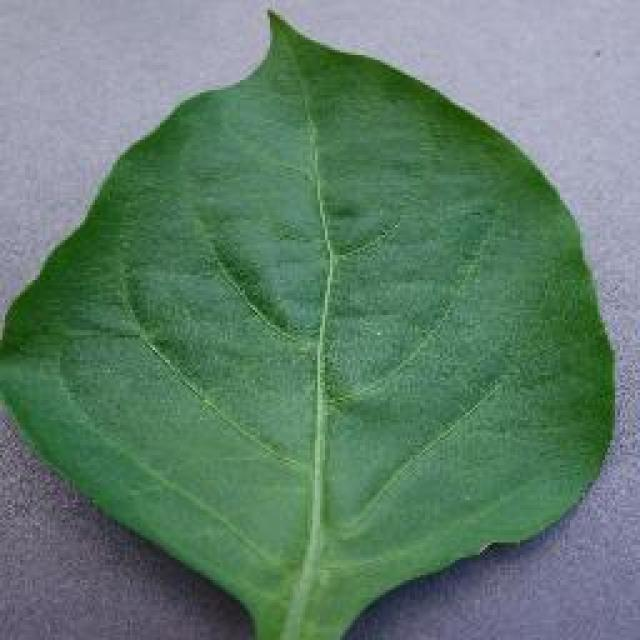Chilli_Healthy: (0, 5, 618, 637)
